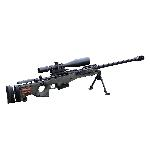Senapan: (4, 55, 146, 108)
